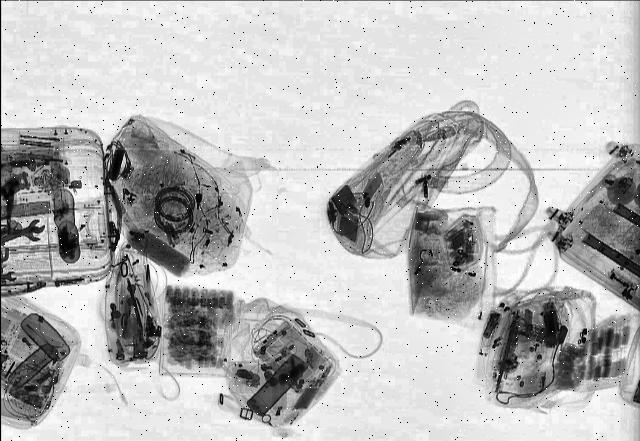Wrench: (0, 217, 48, 243), (1, 226, 42, 240)
